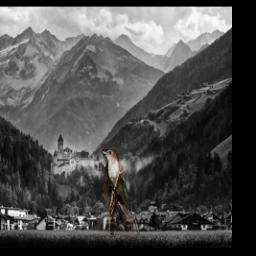Cuckoo: (102, 150, 139, 236)
